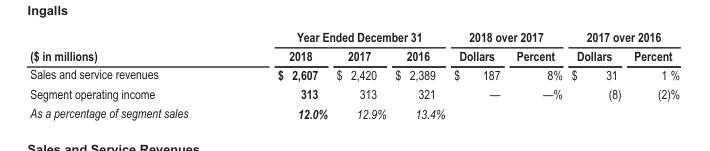table: (29, 28, 679, 120)
table column: (29, 28, 232, 120), (232, 28, 331, 120), (566, 28, 626, 120), (389, 28, 448, 120), (448, 28, 507, 120), (507, 28, 566, 120), (331, 28, 389, 120), (626, 28, 679, 120)
table column header: (29, 28, 679, 64)
table row: (29, 45, 679, 64), (29, 64, 679, 83), (29, 83, 679, 102), (29, 102, 679, 120), (29, 28, 679, 45)
table spanning cell: (29, 28, 232, 64), (232, 28, 448, 45), (448, 28, 566, 45), (566, 28, 679, 45)
